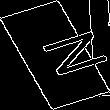N_SW: (13, 27, 97, 83)
